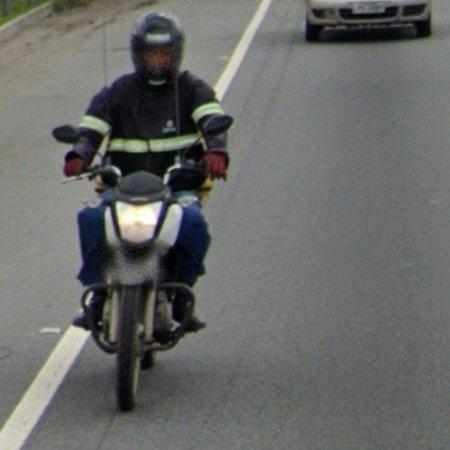motorcycles: (70, 160, 204, 412)
